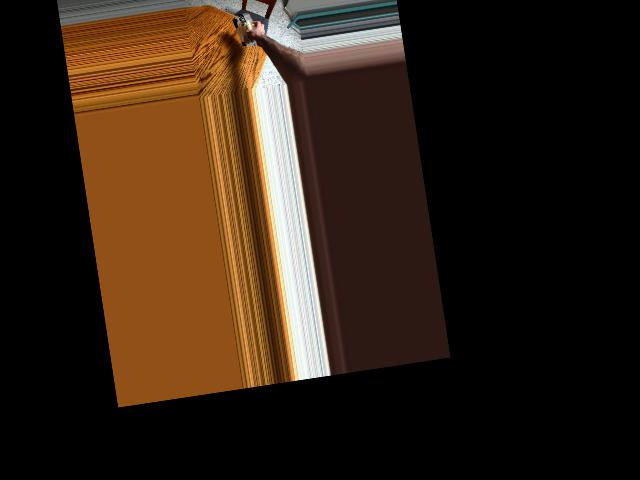cheese: (232, 13, 259, 48)
